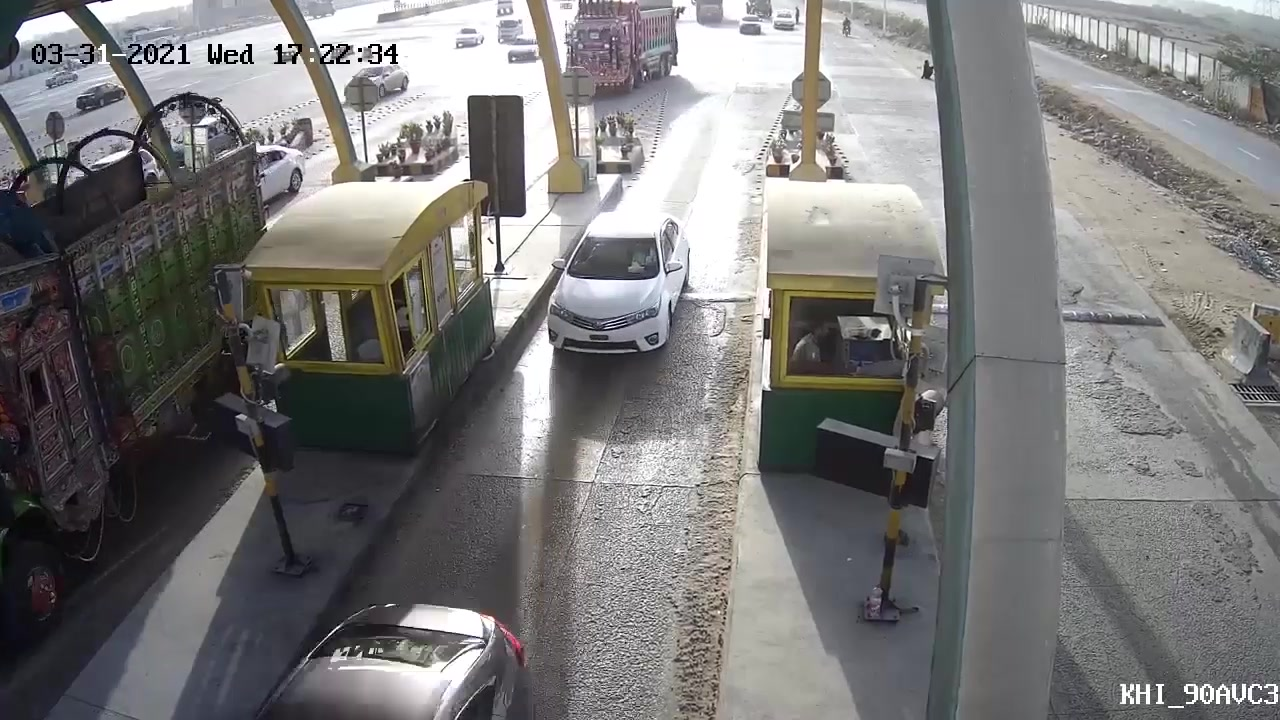F1: (520, 203, 694, 383)
